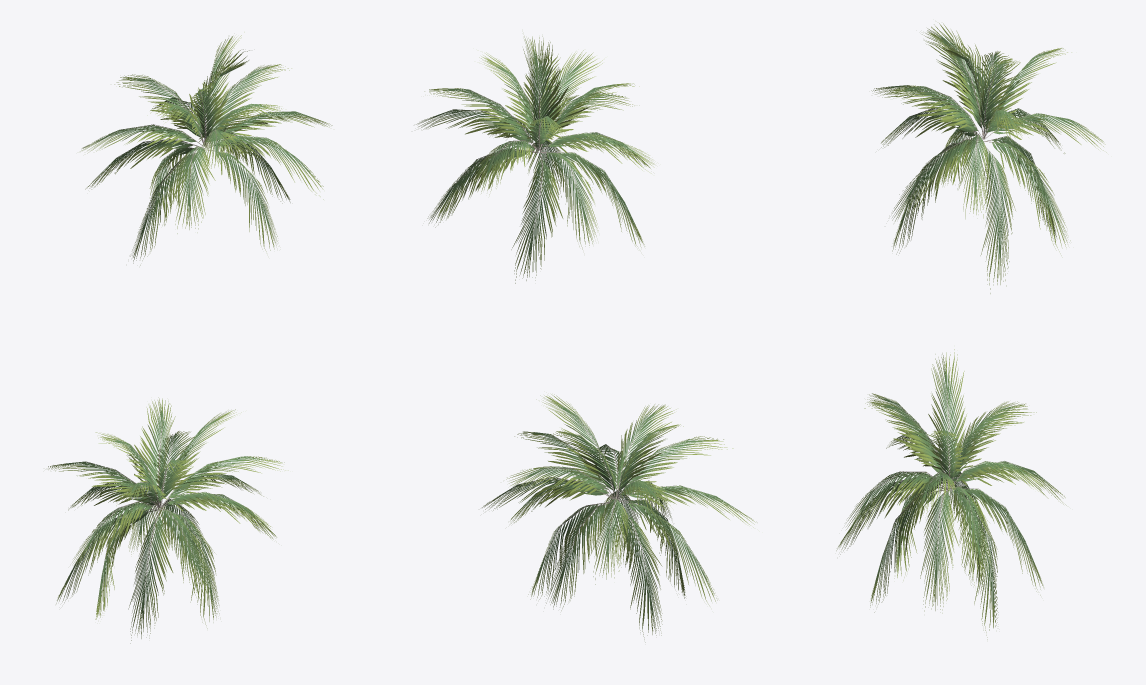
File: m_palm_p2_21_leaf_0.001_lev2.glb
The picture shows the model from 3 angles, left to right: view 1: azimuth 30°, elevation 25°; view 2: azimuth 150°, elevation 25°; view 3: azimuth 270°, elevation 25°; orthographic projection. The views are drawn at different scales.
Parts seen in each view (by area): view 1: m_palm_p2_21_leaf_0.001_lev2; view 2: m_palm_p2_21_leaf_0.001_lev2; view 3: m_palm_p2_21_leaf_0.001_lev2.
Part boxes in pixels (left/top/right/bottom): m_palm_p2_21_leaf_0.001_lev2: left=48, top=32, right=332, bottom=643; m_palm_p2_21_leaf_0.001_lev2: left=416, top=36, right=755, bottom=642; m_palm_p2_21_leaf_0.001_lev2: left=836, top=23, right=1106, bottom=639.
Size of the model in its own units: 4.89 by 7.83 by 3.42.
Materials: 1 (1 with a texture image).
